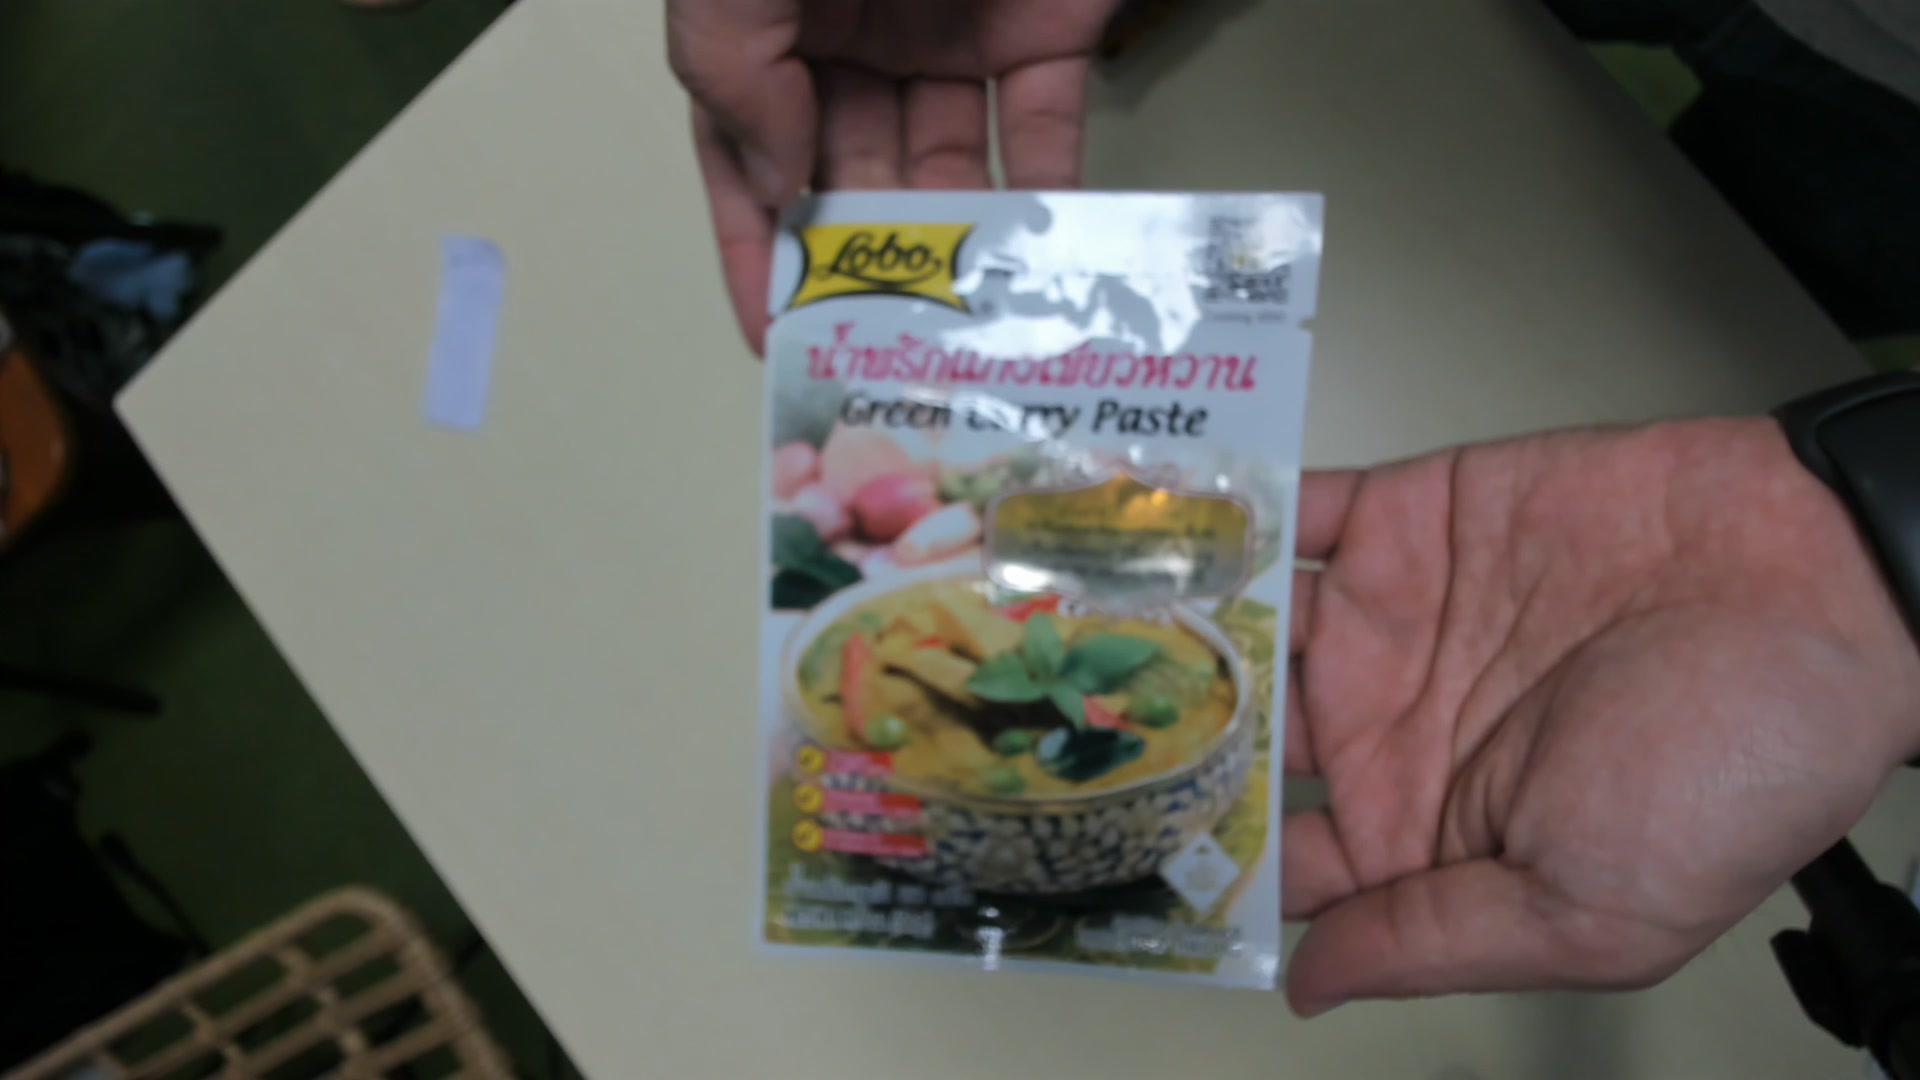OtherSauceDressing_0-99g_Halal_NonHealthy: (756, 187, 1312, 1000)
